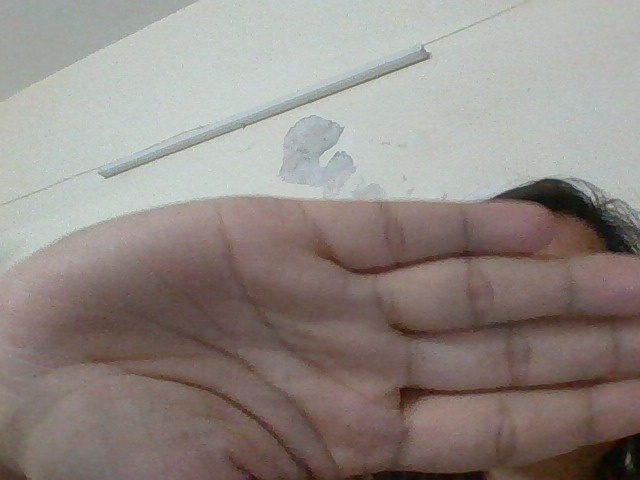rewind: (8, 187, 640, 476)
